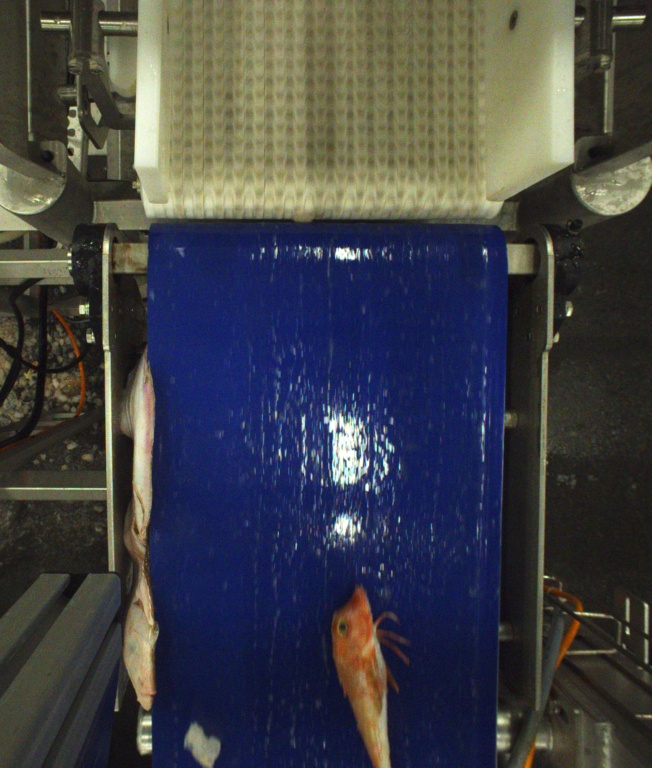GUU: (329, 586, 411, 768)
